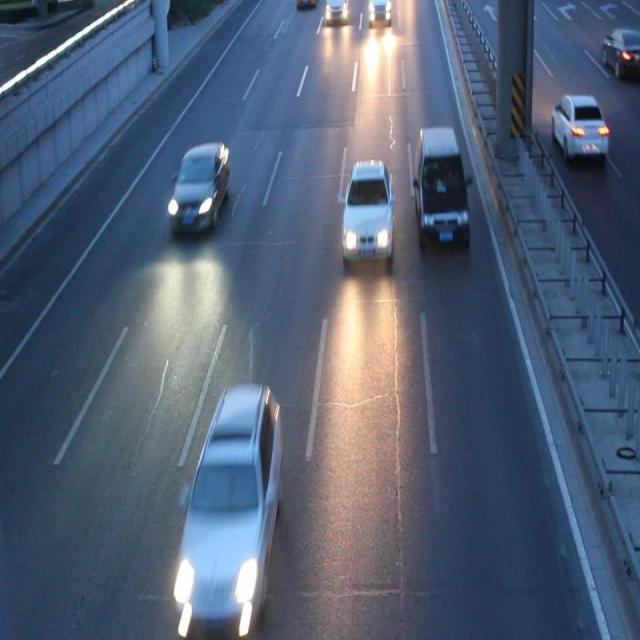car: (178, 386, 280, 588), (169, 142, 228, 228), (342, 160, 392, 256), (552, 95, 607, 153), (602, 27, 640, 77), (296, 1, 315, 10)
truck: (415, 127, 469, 239), (369, 1, 388, 20), (326, 1, 346, 19)
